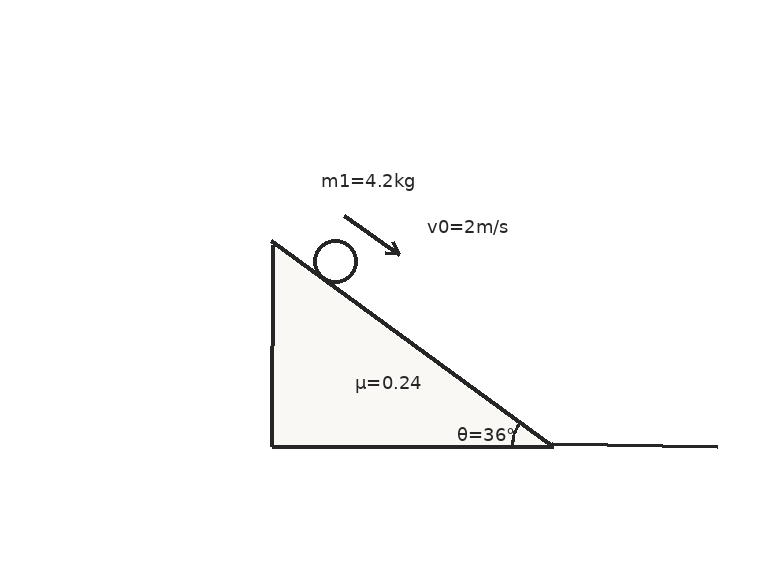ball: (311, 237, 359, 285)
ramp: (270, 241, 554, 448)
